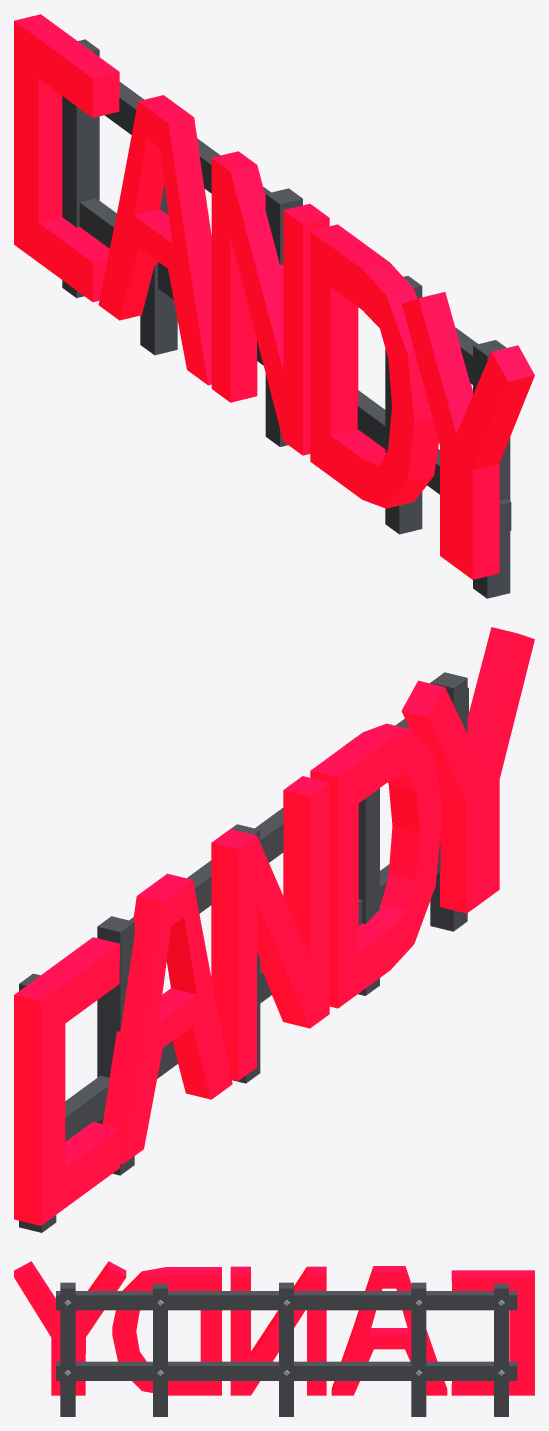
File: SM_Hoarding_08.fbx
The picture shows the model from 3 angles, top to bottom: view 1: azimuth 30°, elevation 25°; view 2: azimuth 150°, elevation 25°; view 3: azimuth 270°, elevation 25°; orthographic projection. The views are drawn at different scales.
Parts seen in each view (by area): view 1: SM_Hoarding_08_LOD0; view 2: SM_Hoarding_08_LOD0; view 3: SM_Hoarding_08_LOD0.
Boxes of the visible parts, bbox=[...] form: SM_Hoarding_08_LOD0: bbox=[14, 14, 534, 598]; SM_Hoarding_08_LOD0: bbox=[14, 627, 534, 1232]; SM_Hoarding_08_LOD0: bbox=[14, 1261, 534, 1416].
Bounding box in the file's own units: 48.19 × 847 × 258.
Materials: 1 (1 with a texture image).
